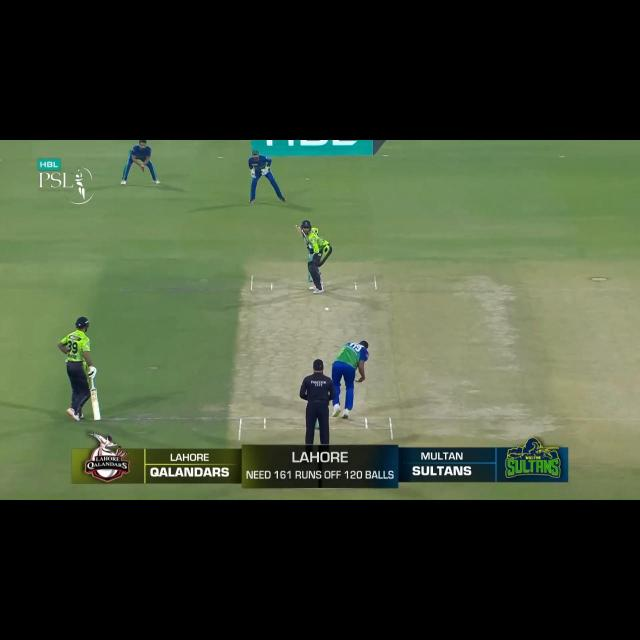bat: (90, 387, 102, 421), (292, 226, 308, 241)
toe: (93, 416, 102, 422), (294, 224, 300, 228)
